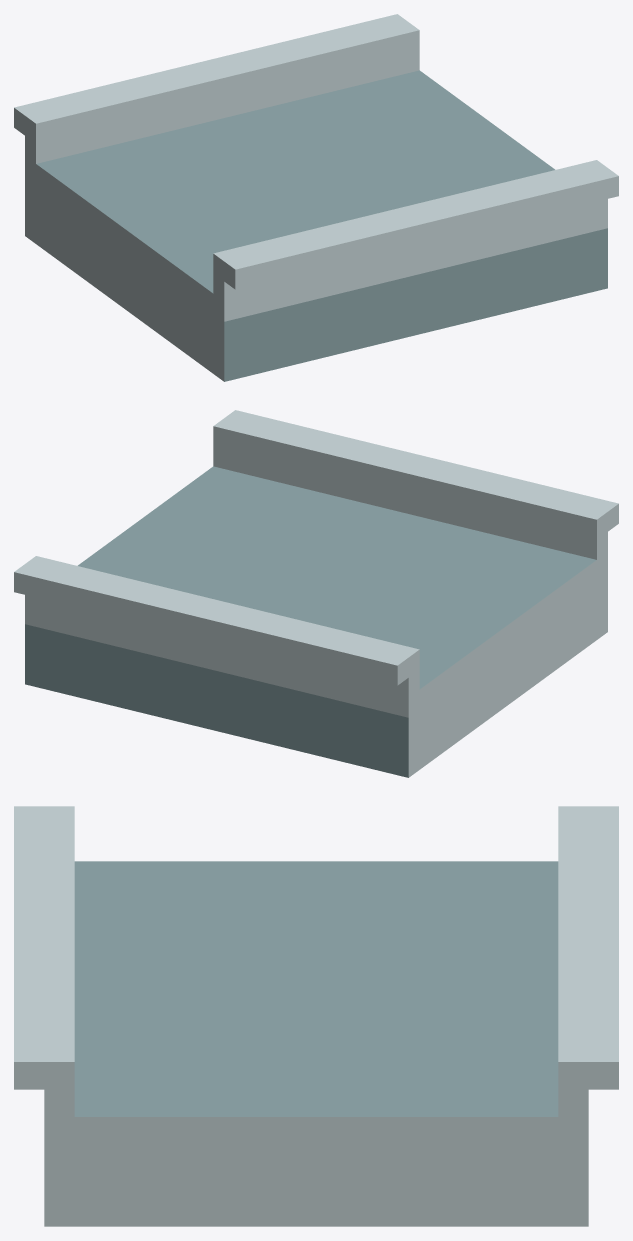
The model's file is bridge_center_stone.glb.
3 renders of one model, top to bottom at view 1: azimuth 30°, elevation 25°; view 2: azimuth 150°, elevation 25°; view 3: azimuth 270°, elevation 25°, orthographic. The views are drawn at different scales.
Visible parts, largest first — view 1: bridge_center_stone; view 2: bridge_center_stone; view 3: bridge_center_stone.
Boxes of the visible parts, bbox=[...] form: bridge_center_stone: bbox=[14, 14, 618, 381]; bridge_center_stone: bbox=[14, 410, 618, 777]; bridge_center_stone: bbox=[14, 806, 618, 1226].
Size of the model in its own units: 1 by 0.3 by 1.
